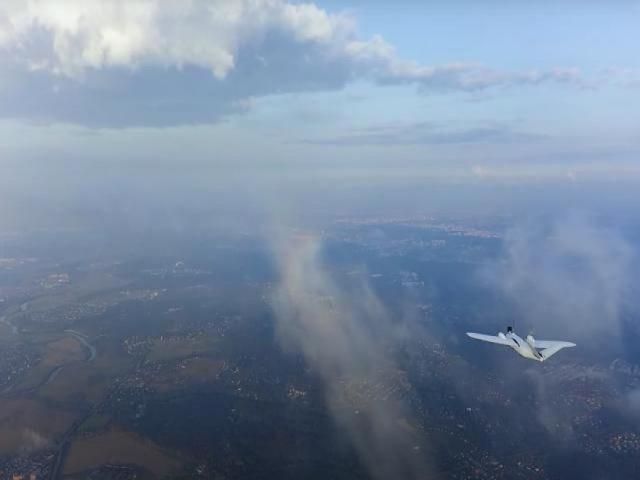iha: (460, 323, 581, 367)
